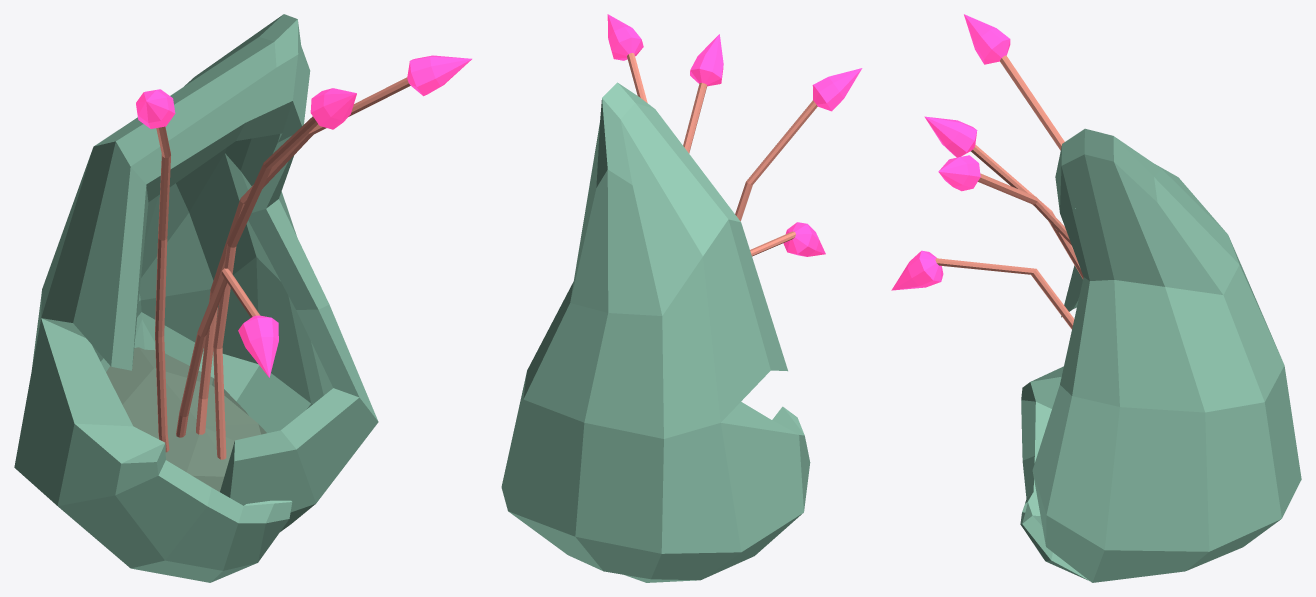
Rendered from Plant_14_Var_03.fbx.
3 renders of one model, left to right at view 1: azimuth 30°, elevation 25°; view 2: azimuth 150°, elevation 25°; view 3: azimuth 270°, elevation 25°, orthographic. The views are drawn at different scales.
Parts seen in each view (by area): view 1: Plant_14_Var_03; view 2: Plant_14_Var_03; view 3: Plant_14_Var_03.
Part boxes in pixels (x1,y1,x2,y2): Plant_14_Var_03: [14, 14, 471, 582]; Plant_14_Var_03: [501, 14, 862, 582]; Plant_14_Var_03: [891, 14, 1301, 582].
Bounding box in the file's own units: 0.5649 × 0.7727 × 0.4598.
